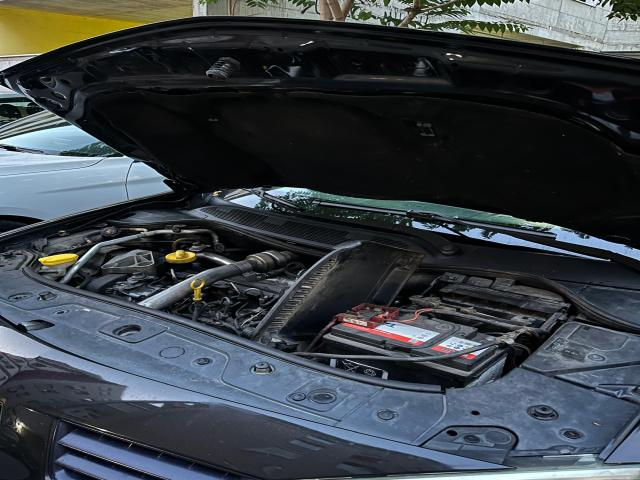accumulator: (322, 303, 507, 387)
antifreeze_tank: (42, 227, 122, 255)
fuse_box: (522, 322, 640, 403)
high_pressure_pump: (107, 278, 165, 301)
